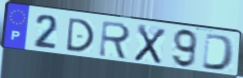2: (32, 13, 59, 51)
9: (171, 28, 199, 70)
D: (200, 32, 236, 73), (65, 16, 97, 53)
R: (97, 19, 133, 62)
X: (132, 23, 167, 66)
